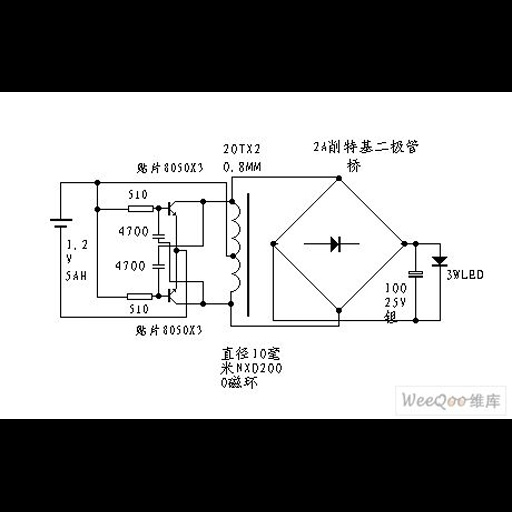capacitor: (150, 261, 166, 272), (151, 231, 167, 241)
firstdiode: (328, 233, 344, 258), (429, 253, 450, 269)
firstresistance: (122, 289, 154, 303), (124, 202, 155, 216)
inductor: (230, 201, 242, 305)
npn: (164, 285, 182, 308), (164, 199, 183, 220)
